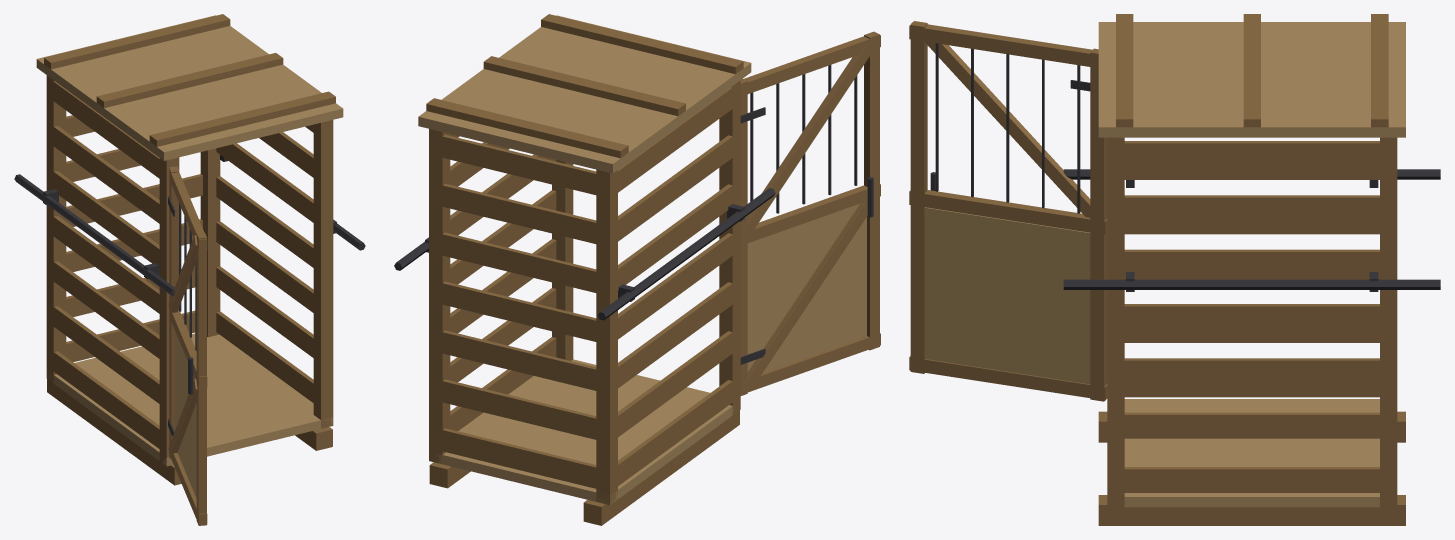
Rendered from Prop_Release_Crate_Open.glb.
3 views of the same model, side by side, from view 1: azimuth 30°, elevation 25°; view 2: azimuth 150°, elevation 25°; view 3: azimuth 270°, elevation 25° (orthographic). The views are drawn at different scales.
Visible parts, largest first — view 1: Prop_Release_Crate_Open, Prop_Release_Crate_Open_Door; view 2: Prop_Release_Crate_Open, Prop_Release_Crate_Open_Door; view 3: Prop_Release_Crate_Open, Prop_Release_Crate_Open_Door.
Boxes of the visible parts, left/top/right/bottom form: Prop_Release_Crate_Open: left=14, top=14, right=365, bottom=485; Prop_Release_Crate_Open_Door: left=168, top=166, right=207, bottom=525; Prop_Release_Crate_Open: left=394, top=14, right=775, bottom=525; Prop_Release_Crate_Open_Door: left=740, top=31, right=880, bottom=395; Prop_Release_Crate_Open: left=1063, top=14, right=1440, bottom=525; Prop_Release_Crate_Open_Door: left=909, top=21, right=1107, bottom=401.
Size of what is drawn, in the model's own units: 1.11 by 1.57 by 1.83.
